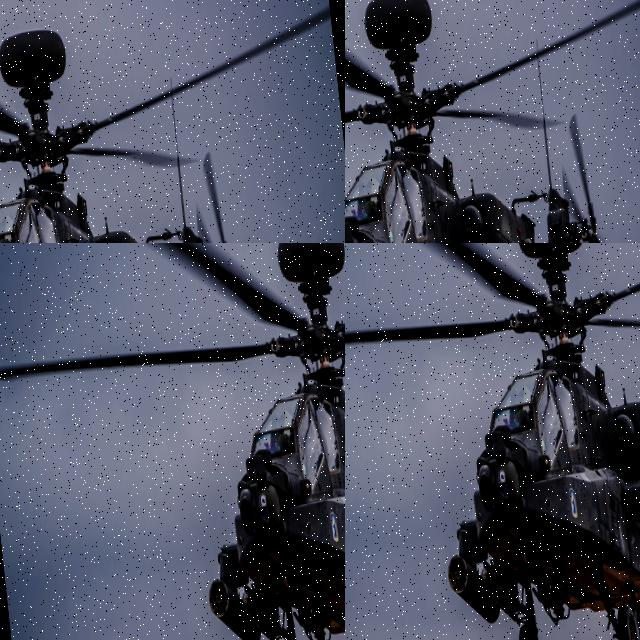Apache: (345, 243, 640, 640), (345, 0, 574, 243), (75, 435, 345, 640)
KAU_Marker: (0, 81, 162, 243)
